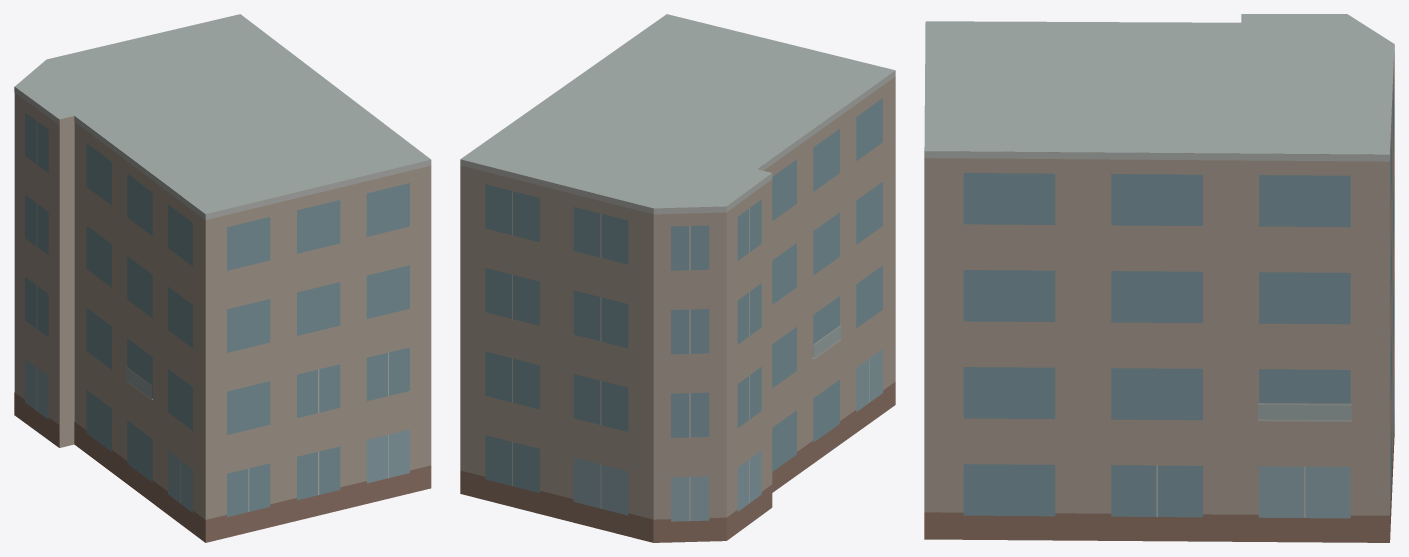
The model's file is survey-upis-33010010.glb.
3 views of the same model, side by side, from view 1: azimuth 30°, elevation 25°; view 2: azimuth 150°, elevation 25°; view 3: azimuth 270°, elevation 25° (orthographic). The views are drawn at different scales.
Parts seen in each view (by area): view 1: survey-upis-33010010.tmp; view 2: survey-upis-33010010.tmp; view 3: survey-upis-33010010.tmp.
Boxes of the visible parts, box(x1,y1,x2,y2) form: survey-upis-33010010.tmp: box(14, 14, 431, 542); survey-upis-33010010.tmp: box(460, 14, 895, 542); survey-upis-33010010.tmp: box(924, 14, 1394, 542).
Bounding box in the file's own units: 10.54 × 13.55 × 14.88.
